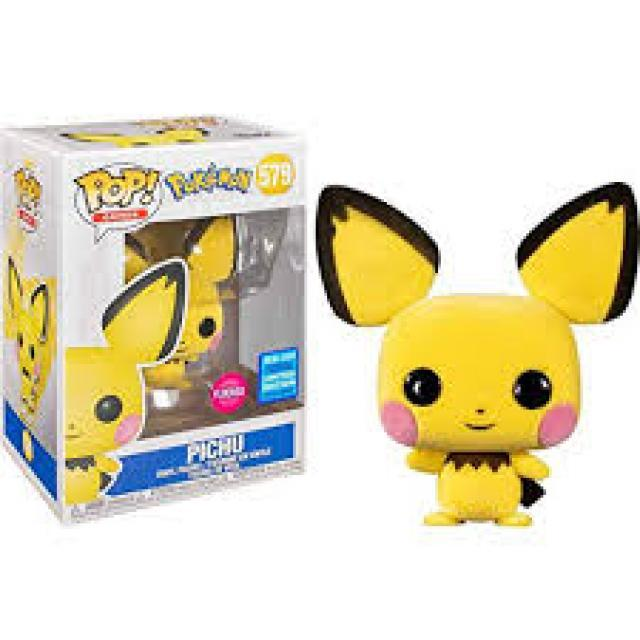pichu: (317, 170, 637, 526), (68, 264, 169, 510)
